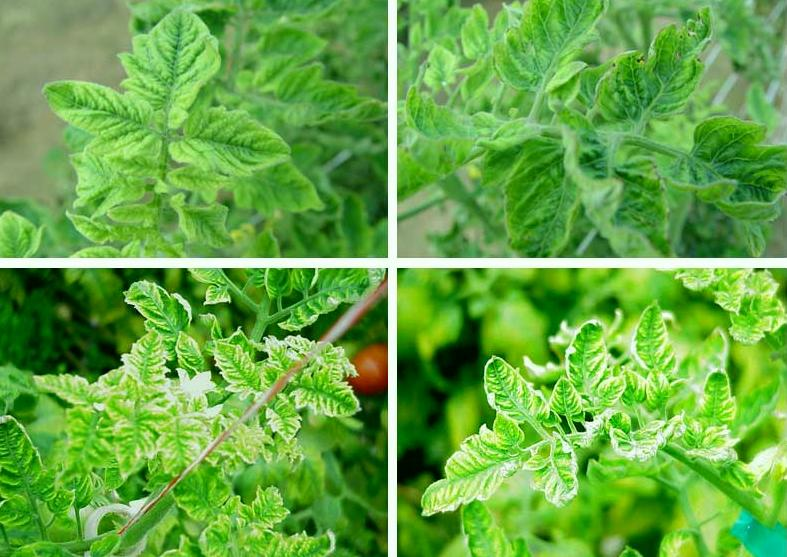Tomato leaf yellow virus: (640, 112, 785, 235), (589, 19, 716, 136), (128, 3, 226, 133), (481, 129, 582, 252), (415, 423, 545, 518), (502, 0, 612, 87), (35, 74, 155, 145), (180, 106, 311, 162), (511, 432, 585, 531), (476, 353, 553, 437), (0, 408, 59, 516), (565, 314, 627, 414), (106, 403, 164, 474), (633, 289, 675, 379), (293, 372, 362, 425), (179, 460, 234, 520), (209, 340, 261, 395), (120, 333, 165, 391), (244, 479, 290, 535), (698, 362, 732, 437), (545, 378, 593, 422), (175, 326, 206, 379), (642, 364, 674, 411)
